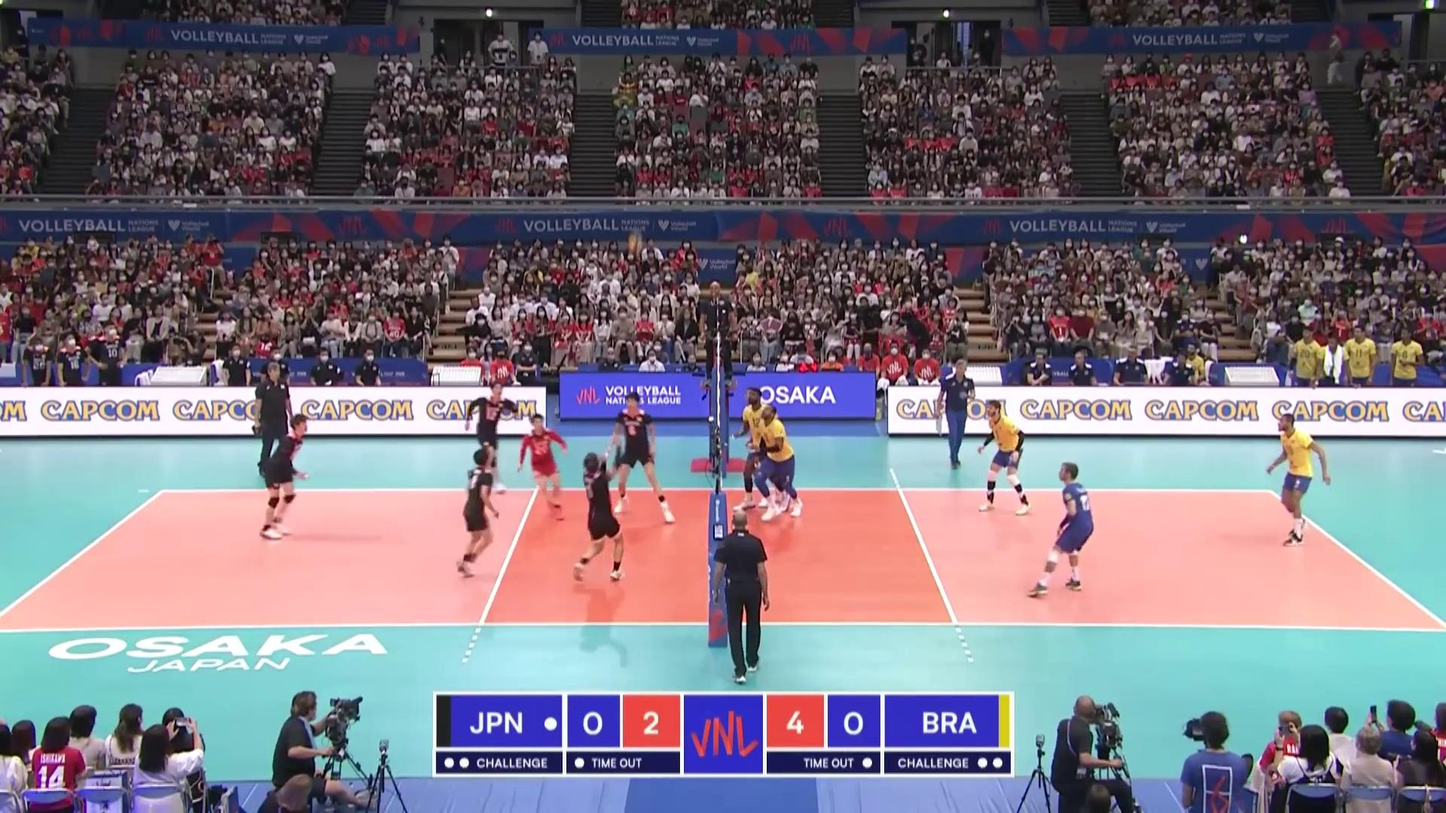player: (1032, 461, 1096, 599), (612, 394, 675, 526), (1263, 413, 1325, 545), (573, 450, 628, 585), (262, 412, 310, 540), (976, 401, 1030, 513), (453, 449, 498, 576), (757, 406, 804, 522), (467, 382, 515, 492), (520, 414, 568, 517), (735, 389, 771, 509)
refree: (715, 509, 768, 686), (701, 282, 737, 390)
